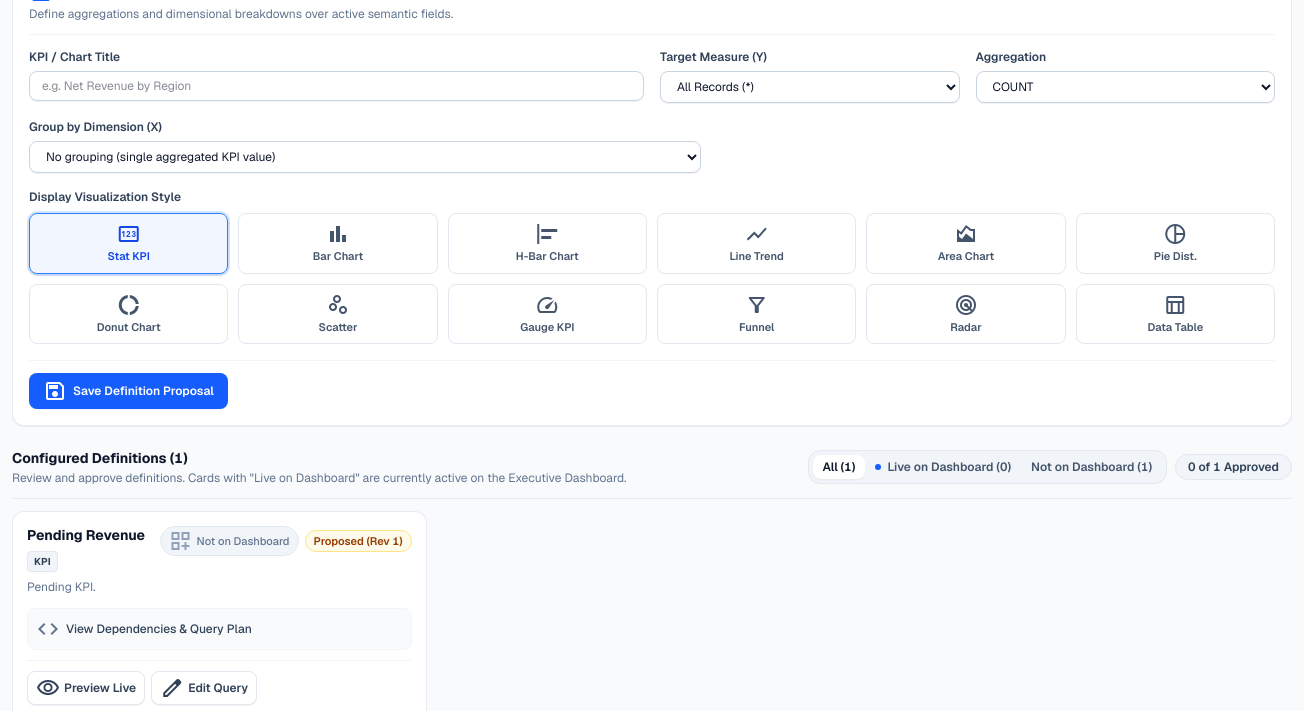
Test: Platform correctness and navigation › shows spinning loading indicators on Preview Live, Approve, Reject, and Propose buttons while requests are in flight
Expected: the heading "Pending Revenue" is shown, x1=27 y1=526 x2=145 y2=545
# Preview Live spinner
Click the button "Preview Live": (86, 688) x1=27 y1=671 x2=145 y2=705
(page scrolled)
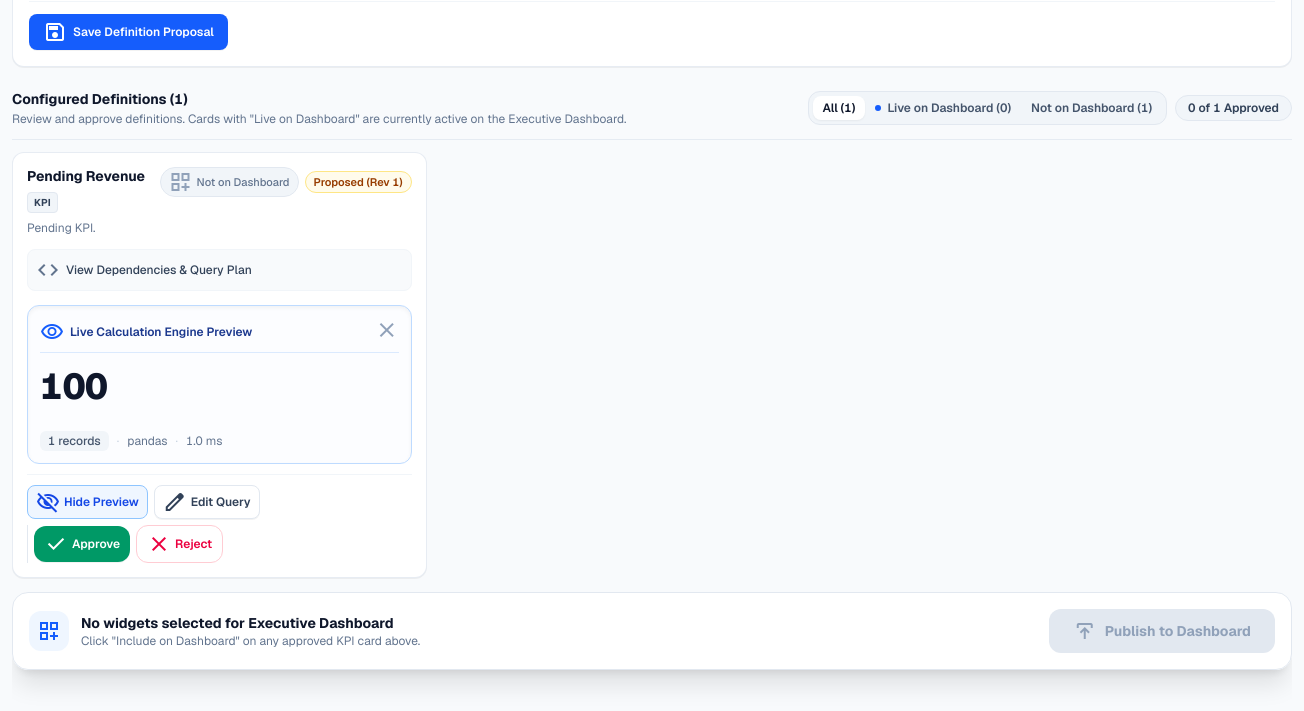
Expected: the button "Hide Preview" is shown, x1=27 y1=485 x2=148 y2=519
# Approve spinner
Click the button "Approve": (82, 544) x1=34 y1=526 x2=130 y2=562
(page scrolled)
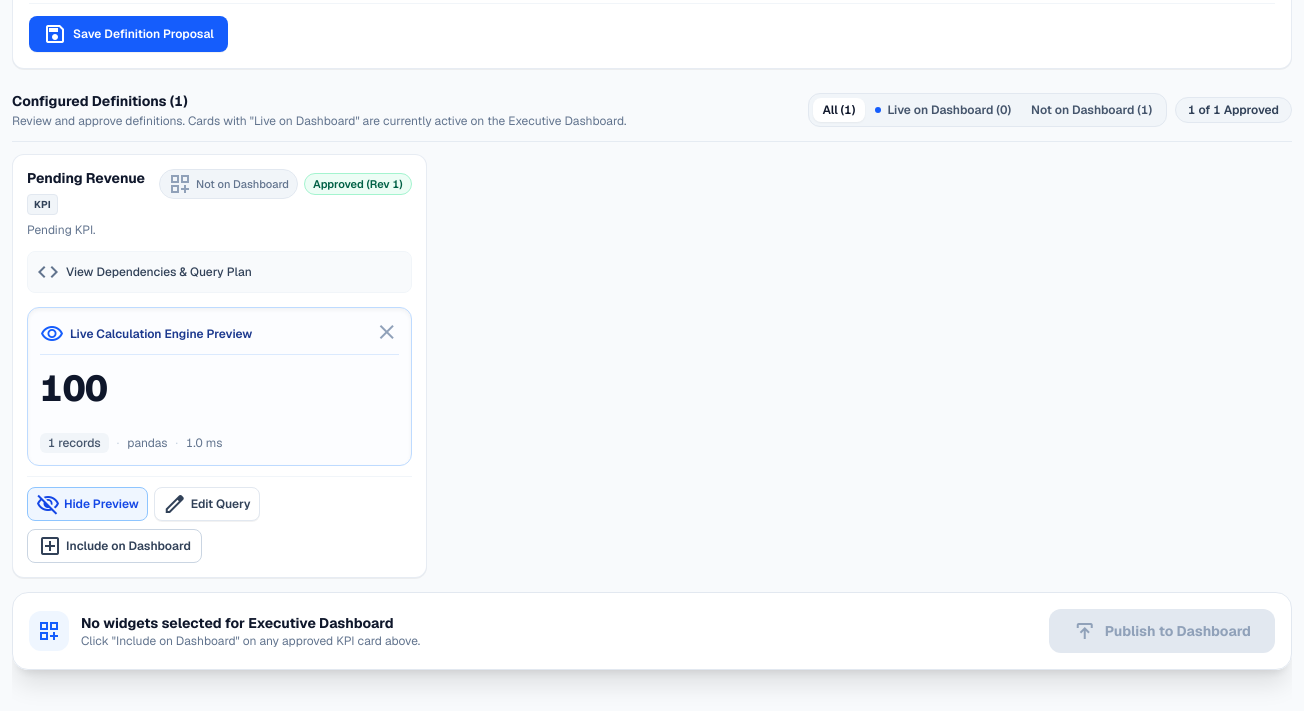
Expected: the text "Approved (Rev 1)" is shown, x1=304 y1=173 x2=412 y2=195
